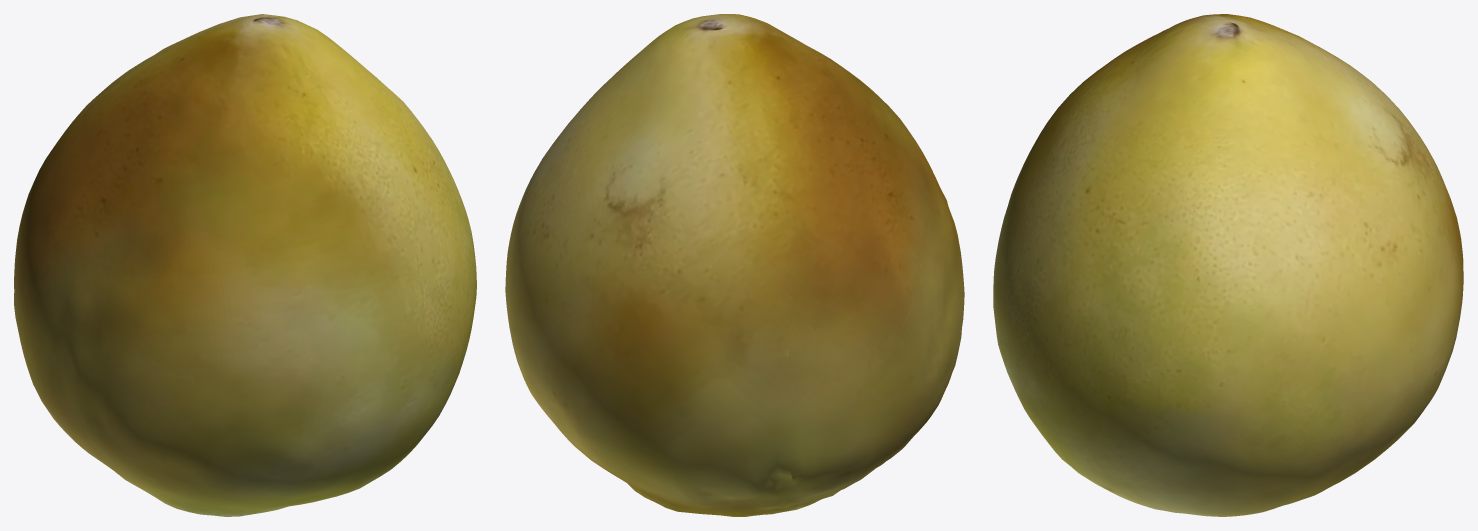
Rendered from pomelo-2.glb.
3 renders of one model, left to right at view 1: azimuth 30°, elevation 25°; view 2: azimuth 150°, elevation 25°; view 3: azimuth 270°, elevation 25°, orthographic. The views are drawn at different scales.
Parts seen in each view (by area): view 1: Object_4; view 2: Object_4; view 3: Object_4.
Boxes of the visible parts, x1,y1,x2,y2 form: Object_4: (14, 14, 476, 516); Object_4: (505, 14, 964, 516); Object_4: (993, 14, 1463, 516).
Bounding box in the file's own units: 1.69 × 1.86 × 1.68.
Materials: 1 (1 with a texture image).
